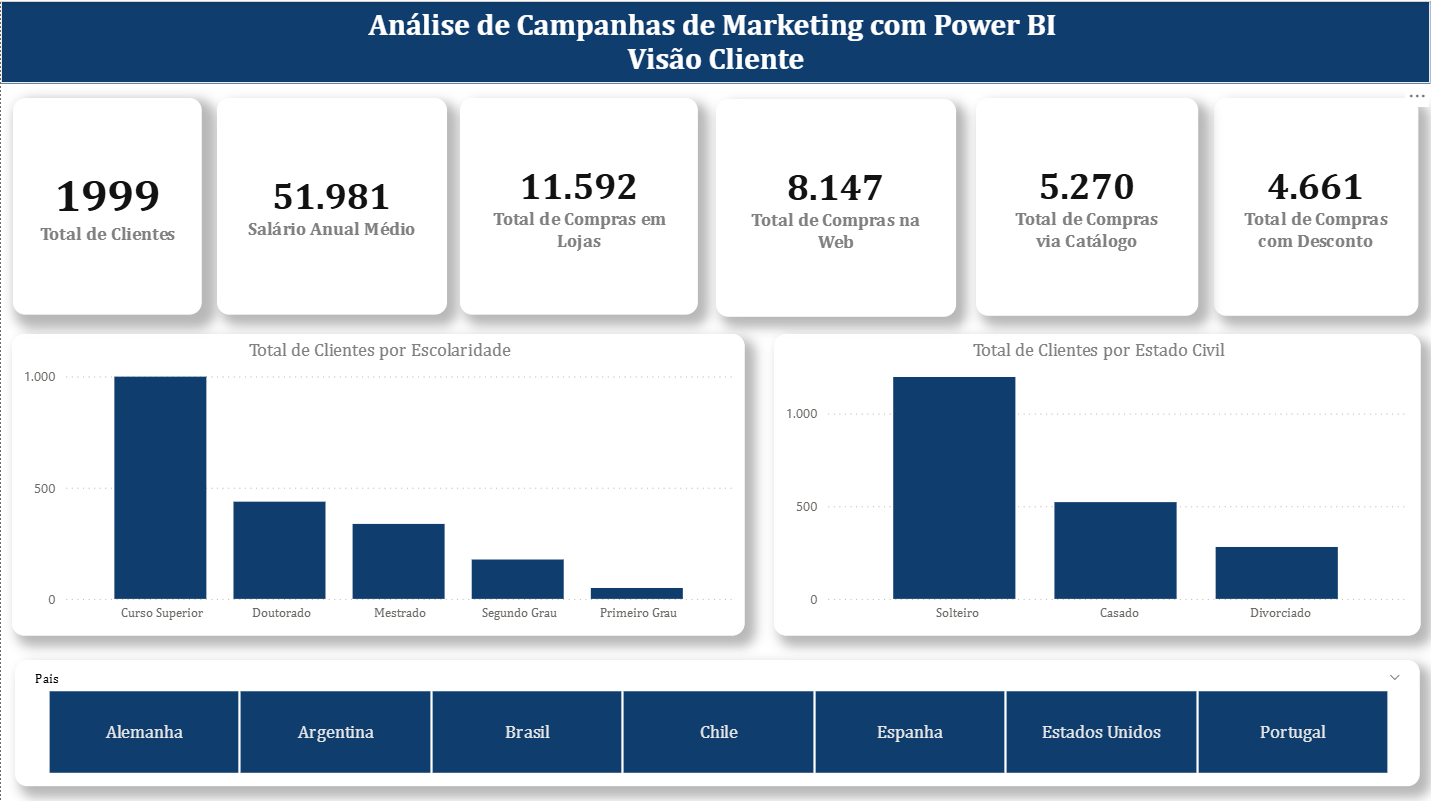

Layout of this report page (visuals, bound fields, positions):
{"tool":"powerbi","page":{"name":"Visão Cliente","canvas":[1280,720],"ordinal":0},"visuals":[{"type":"cardVisual","fields":{"Data":["CountNonNull(DadosMarketing.ID)"]},"box":[10.7,87.2,169.3,194.4],"z":0},{"type":"cardVisual","fields":{"Data":["Avg(DadosMarketing.Salario Anual)"]},"box":[193.5,87.2,205.8,194.4],"z":1000},{"type":"cardVisual","fields":{"Data":["Sum(DadosMarketing.Numero de Compras na Loja)"]},"box":[410.9,87.2,213.2,194.4],"z":2000},{"type":"cardVisual","fields":{"Data":["Sum(DadosMarketing.Numero de Compras na Web)"]},"box":[640.1,87.4,215,194.5],"z":3000},{"type":"cardVisual","fields":{"Data":["Sum(DadosMarketing.Numero de Compras com Desconto)"]},"box":[1086.2,86.9,182.7,195.2],"z":4000},{"type":"cardVisual","fields":{"Data":["Sum(DadosMarketing.Numero de Compras via Catalogo)"]},"box":[873.1,86.9,198.8,195.2],"z":5000},{"type":"textbox","box":[0,0,1280,73.9],"z":6000},{"type":"columnChart","title":"Total de Clientes por Escolaridade","fields":{"Y":["CountNonNull(DadosMarketing.ID)"],"Category":["DadosMarketing.Escolaridade"]},"box":[10.3,298.3,656.4,270.2],"z":7000},{"type":"columnChart","title":"Total de Clientes por Estado Civil","fields":{"Y":["CountNonNull(DadosMarketing.ID)"],"Category":["DadosMarketing.Estado Civil"]},"box":[691.9,298.3,578.8,270.2],"z":8000},{"type":"slicer","fields":{"Values":["DadosMarketing.Pais"]},"box":[12.5,590.4,1258.1,112.8],"z":9000}]}

Visuals, with their boxes in screenshot pixels (x1, y1, x2, y2), scaled from the page's 1280x720 canvas onto the 1431x801 screenshot:
cardVisual - CountNonNull(DadosMarketing.ID): locate(12, 97, 201, 313)
cardVisual - Avg(DadosMarketing.Salario Anual): locate(216, 97, 446, 313)
cardVisual - Sum(DadosMarketing.Numero de Compras na Loja): locate(459, 97, 698, 313)
cardVisual - Sum(DadosMarketing.Numero de Compras na Web): locate(716, 97, 956, 314)
cardVisual - Sum(DadosMarketing.Numero de Compras com Desconto): locate(1214, 97, 1419, 314)
cardVisual - Sum(DadosMarketing.Numero de Compras via Catalogo): locate(976, 97, 1198, 314)
textbox: locate(0, 0, 1430, 82)
"Total de Clientes por Escolaridade" columnChart: locate(12, 332, 745, 632)
"Total de Clientes por Estado Civil" columnChart: locate(774, 332, 1421, 632)
slicer - DadosMarketing.Pais: locate(14, 657, 1420, 782)
